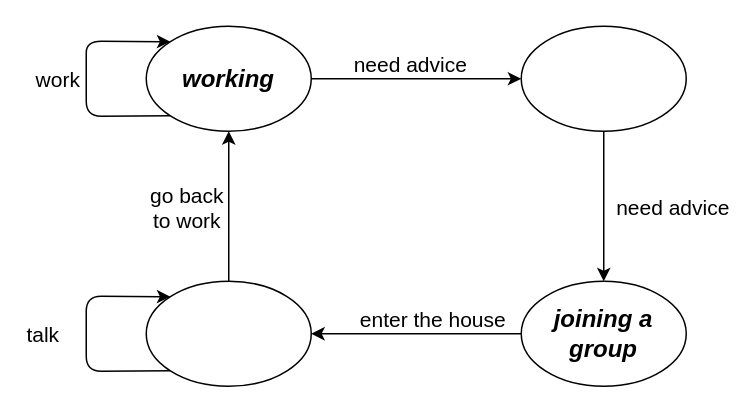
Image size: 755x413. Some labels were removed from this diagram. Each missing label, with the box of its shape:
consulting with Santa: (145, 280, 311, 386)
wishing to meet Santa: (520, 25, 686, 131)
